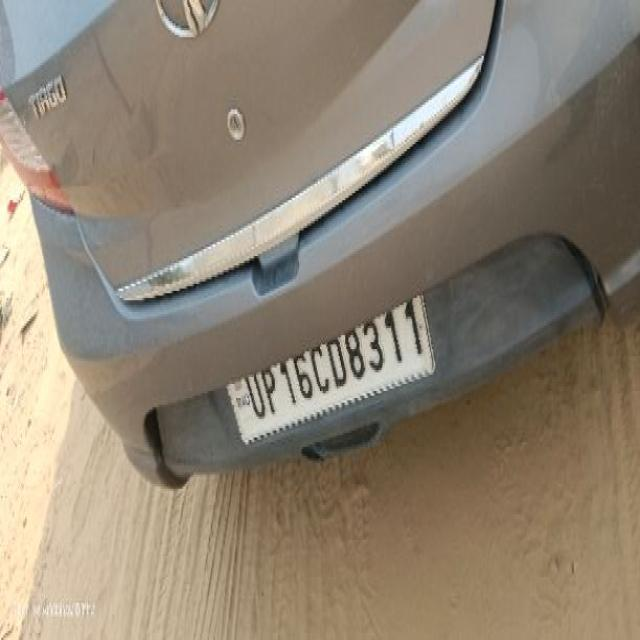license_plate: (1, 0, 638, 484), (224, 288, 436, 447)
